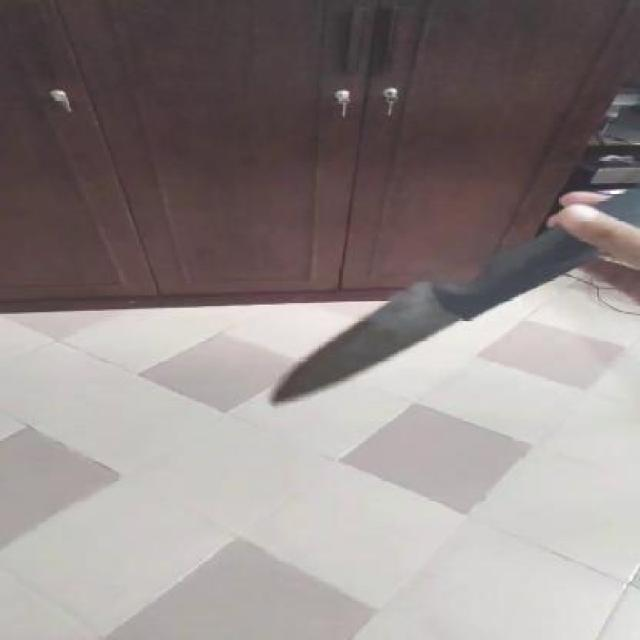knife: (258, 259, 457, 426)
